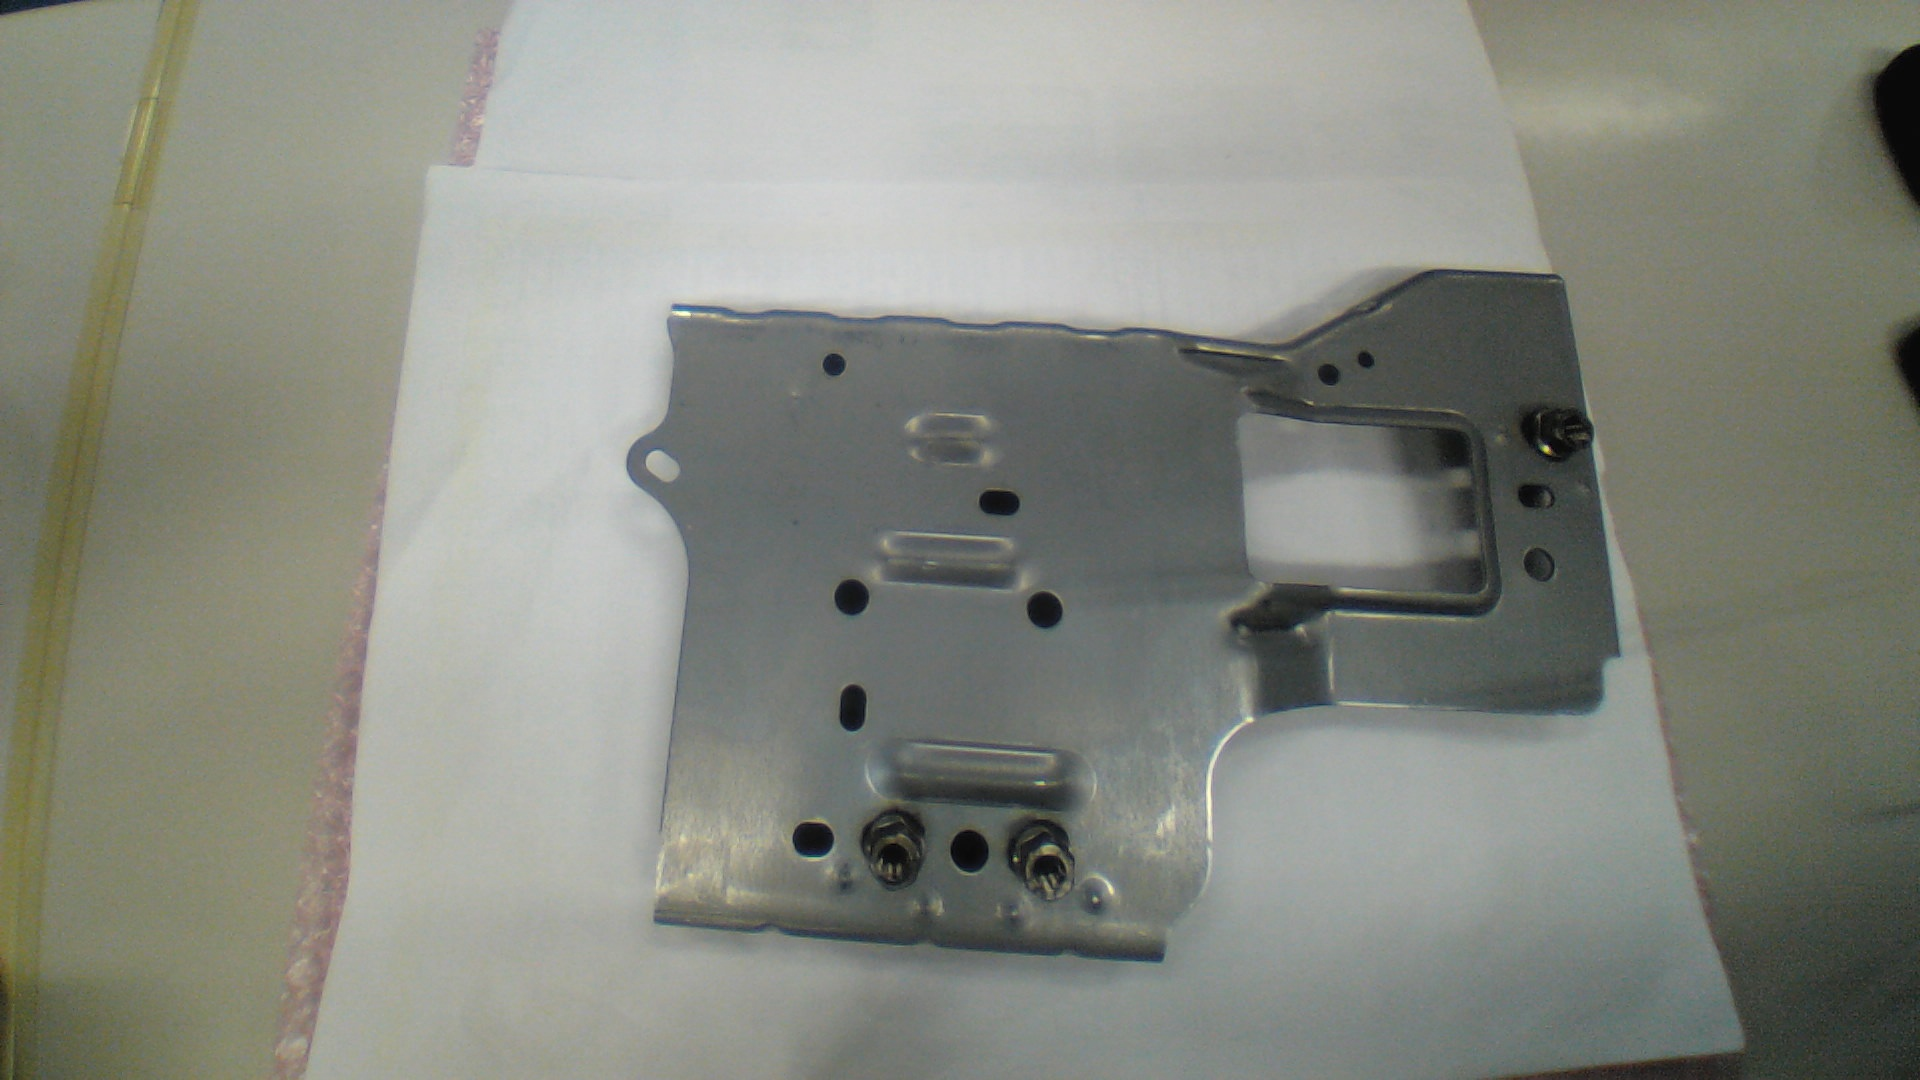dog: (1004, 816, 1073, 902), (860, 807, 926, 890), (1524, 404, 1596, 465)
